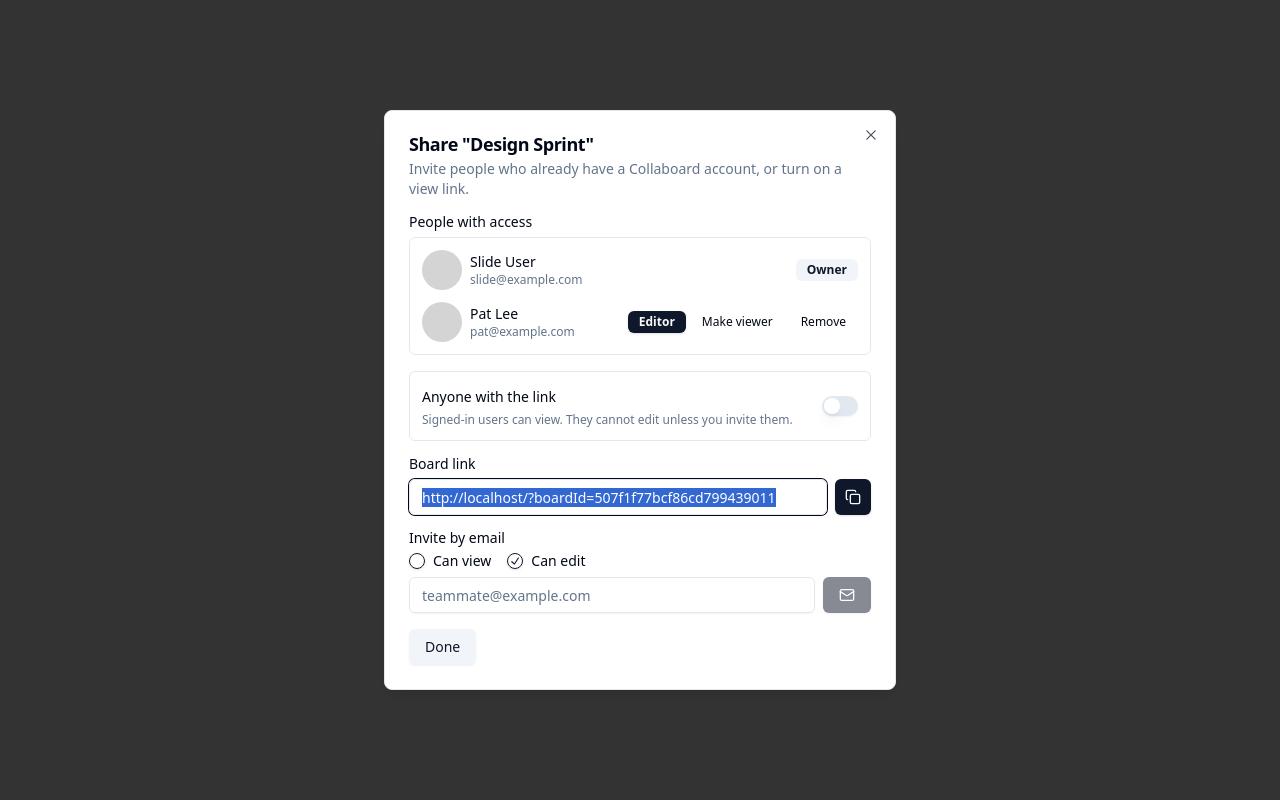
ShareModal › invites an existing account by email
Check: the text "Pat Lee" is shown, box [470,304,518,323]
In the field labelled "Invite by email": (612, 595) [409,577,815,613], type "alex@example.com"
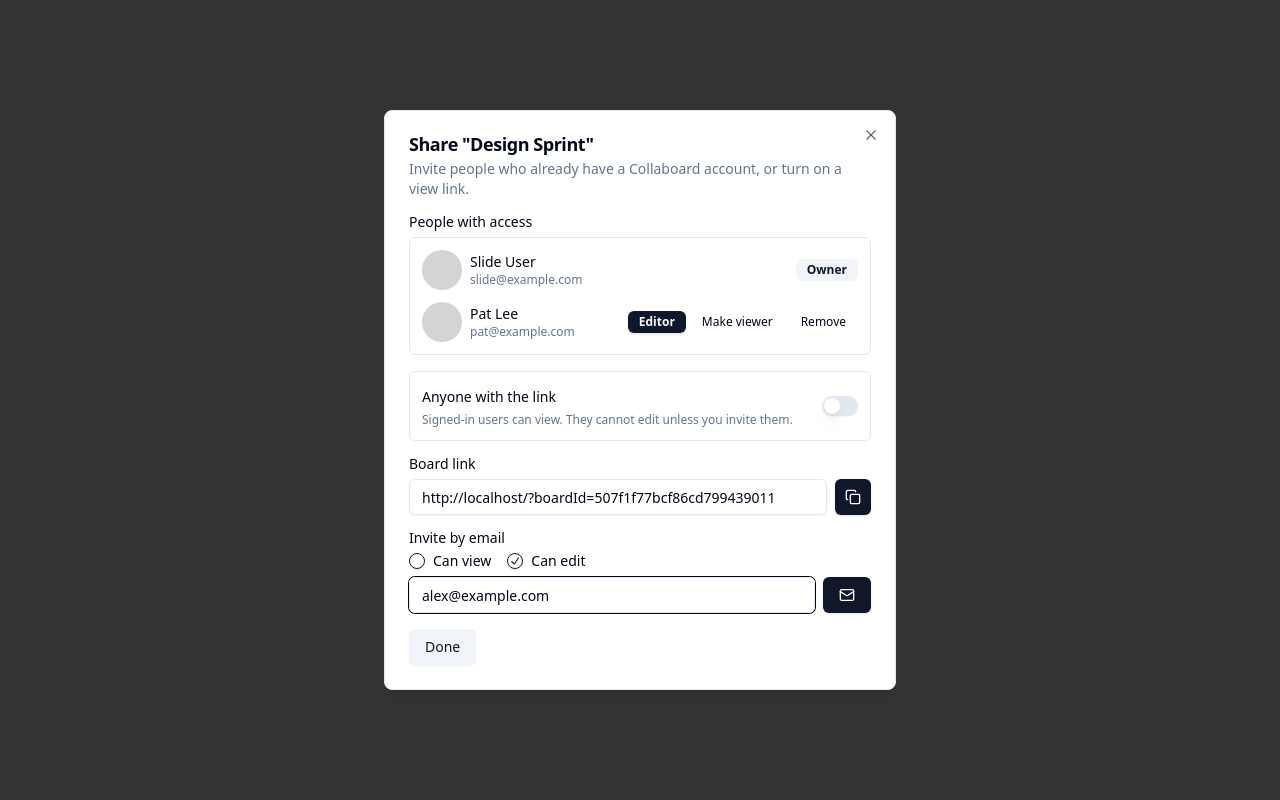
Click the button named "Send invite": (847, 595) [823,577,871,613]
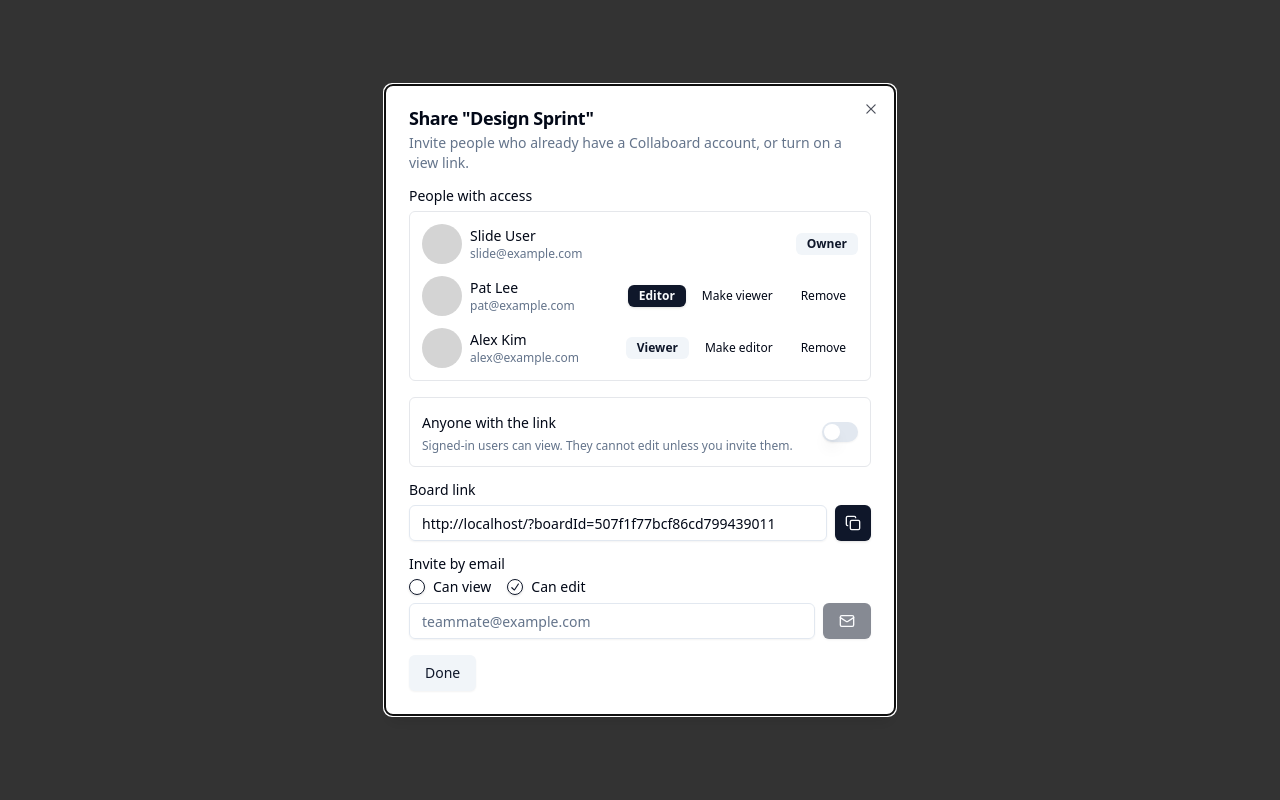
Check: the text "Alex Kim" is shown, box [470,330,527,349]
